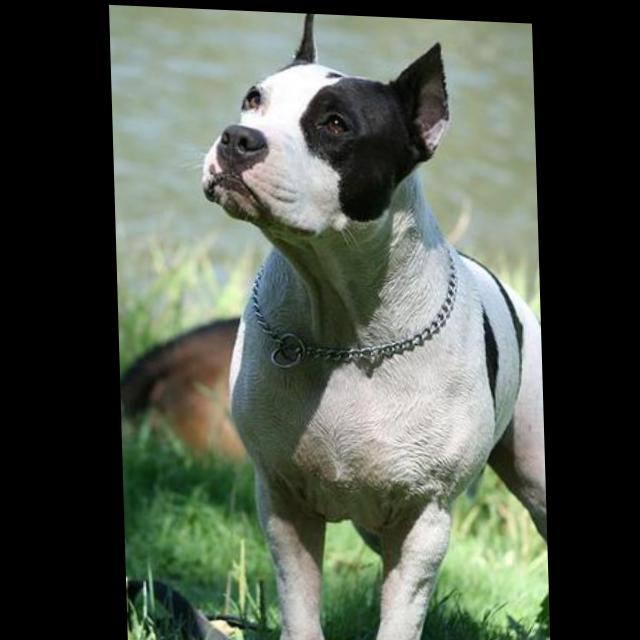amstaff: (110, 5, 547, 640)
